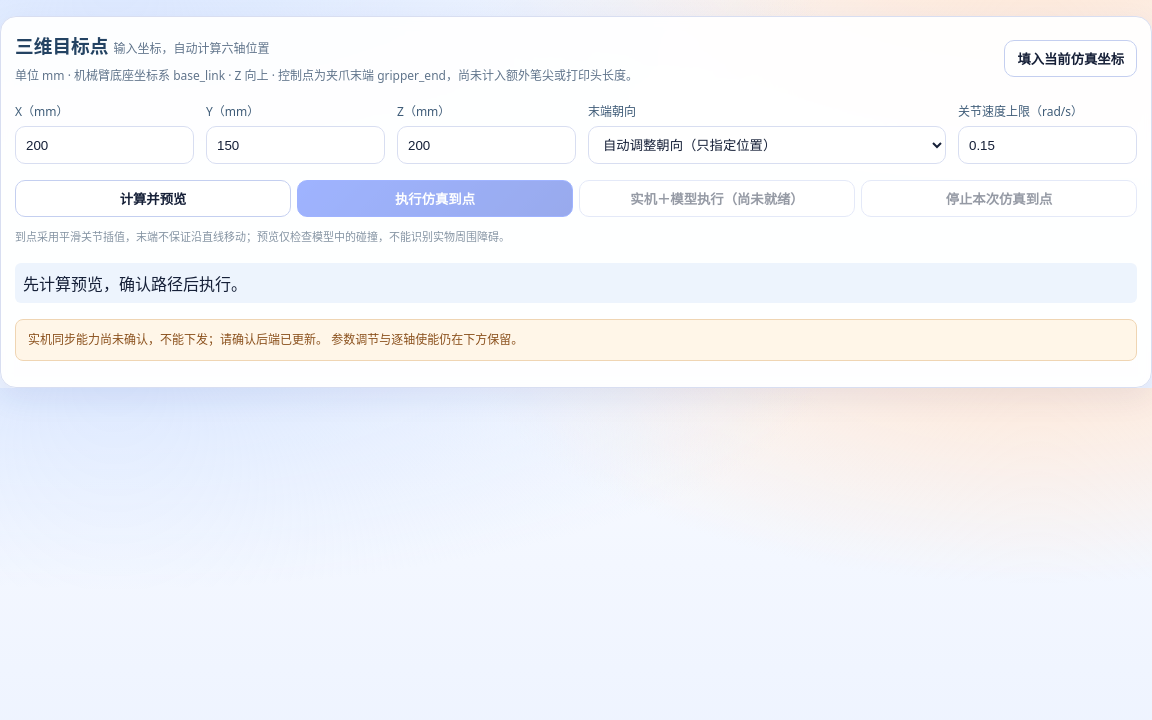
Scenario: Cartesian point controls › invalidates preview after coordinate editing and blocks incomplete inputs
The image size is (1152, 720).
Click the button "计算并预览" at [153, 199], box [15, 180, 291, 217]
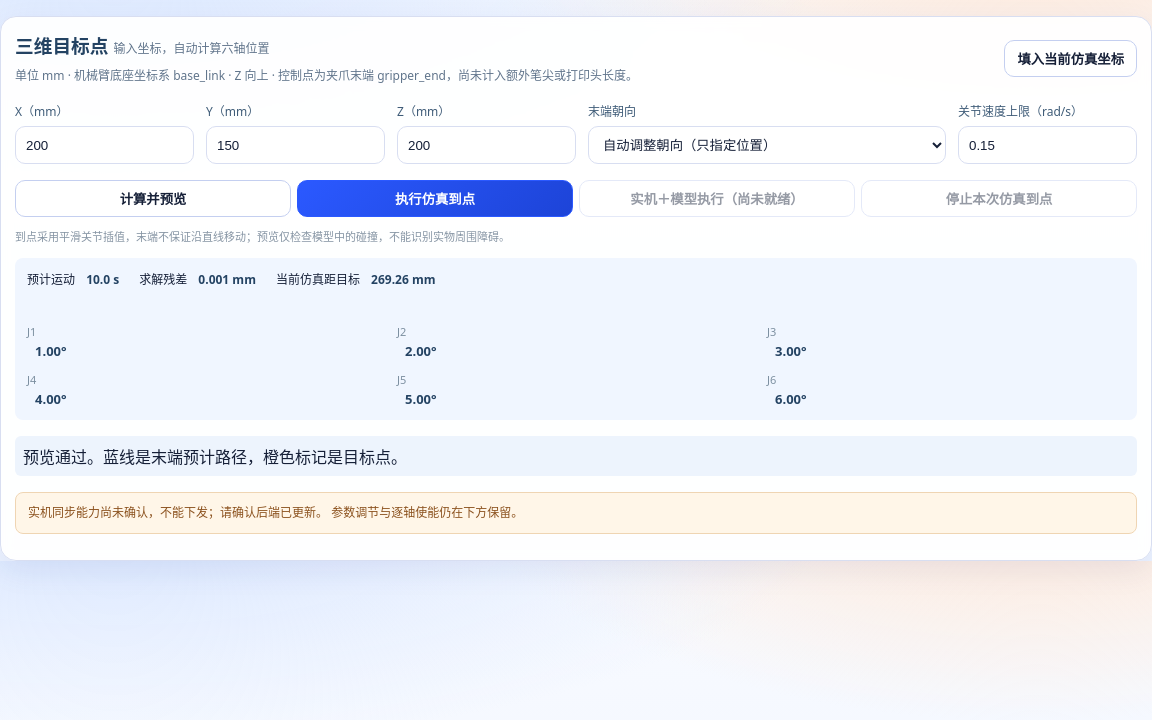
Now the text "预览通过。蓝线是末端预计路径，橙色标记是目标点。" is shown, box [15, 436, 1137, 476]
Clear the number field labelled "X（mm）" at [104, 145], box [15, 126, 194, 164]
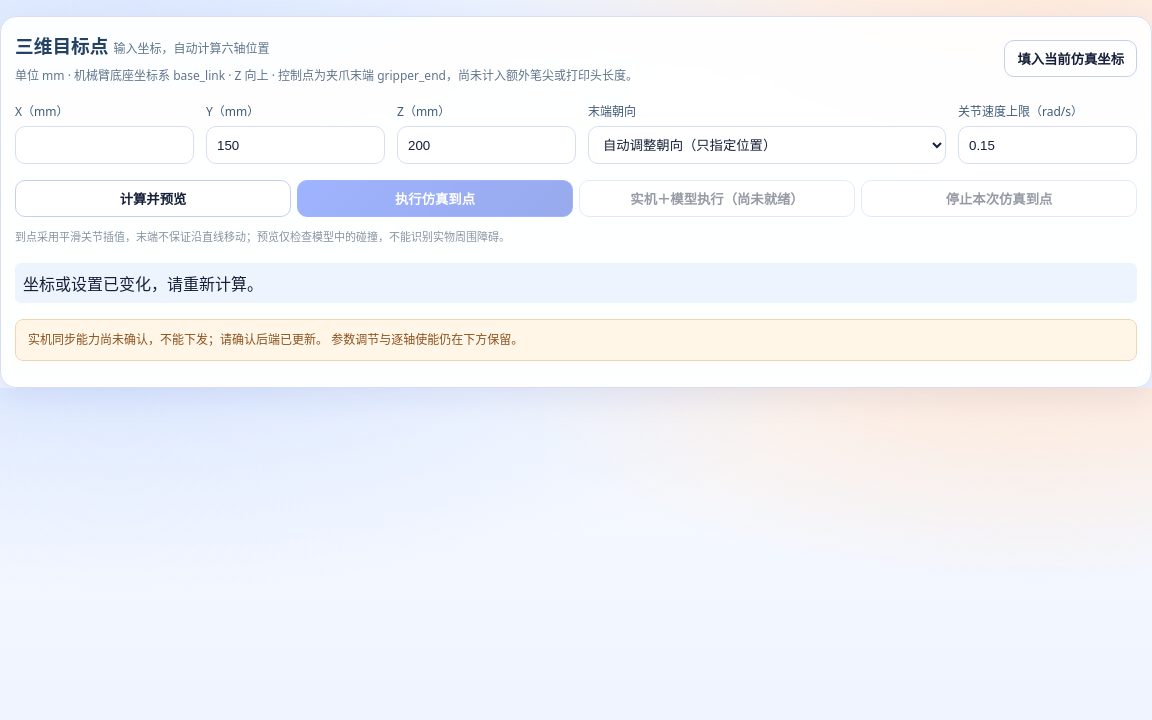
Now the button "执行仿真到点" is disabled, box [297, 180, 573, 217]
Click the button "计算并预览" at [153, 199], box [15, 180, 291, 217]
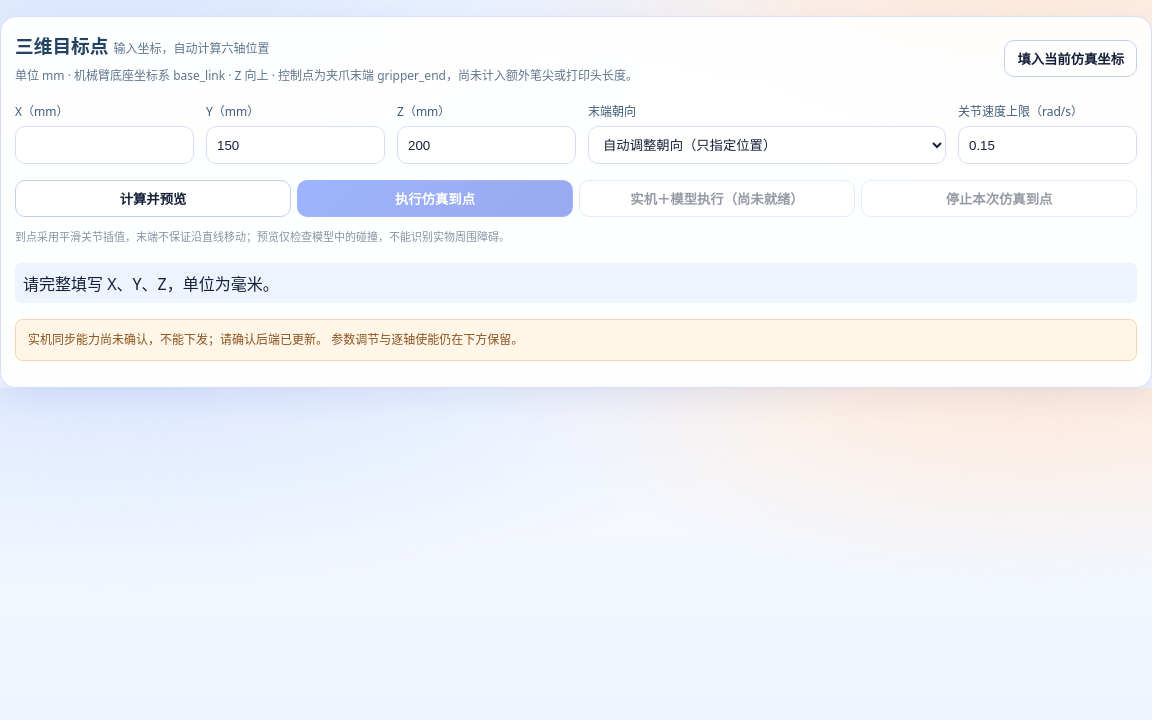
Now the text "请完整填写 X、Y、Z，单位为毫米。" is shown, box [15, 263, 1137, 303]
